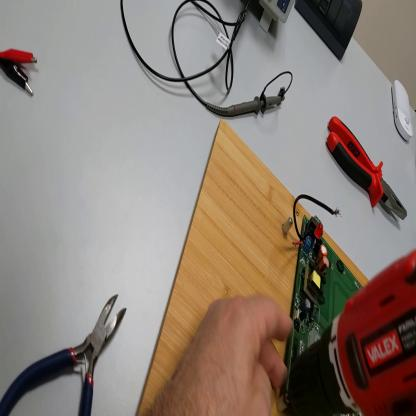electric screwdriver: (283, 251, 416, 416)
hand: (157, 292, 292, 415)
low voltage board: (283, 193, 368, 414)
oscilloscope: (248, 1, 296, 34)
oscilloscope probe tip: (219, 98, 285, 119)
pliers: (2, 292, 130, 415), (327, 108, 409, 223)
working area: (137, 117, 370, 415)
